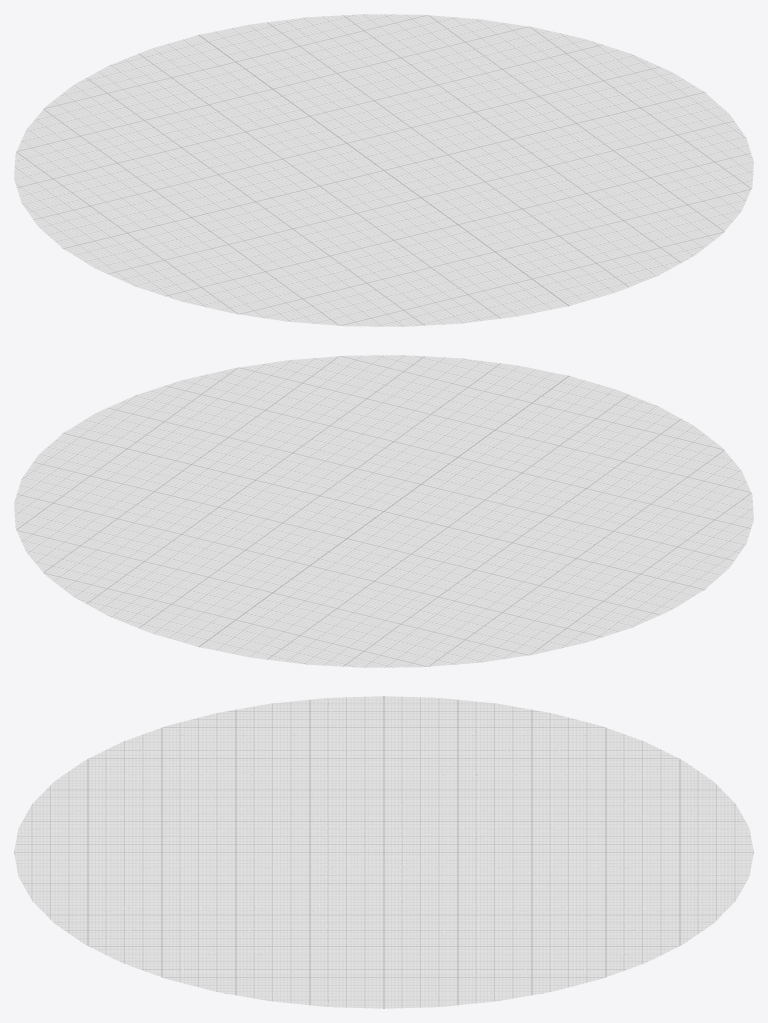
File: buildRing.fbx
The picture shows the model from 3 angles, top to bottom: view 1: azimuth 30°, elevation 25°; view 2: azimuth 150°, elevation 25°; view 3: azimuth 270°, elevation 25°; orthographic projection.
Visible parts, largest first — view 1: BuildRing; view 2: BuildRing; view 3: BuildRing.
Boxes of the visible parts, x1=… form: BuildRing: x1=14, y1=14, x2=753, y2=326; BuildRing: x1=14, y1=355, x2=753, y2=667; BuildRing: x1=14, y1=696, x2=753, y2=1008.
Size of the model in its own units: 0.2 by 0 by 0.2.
